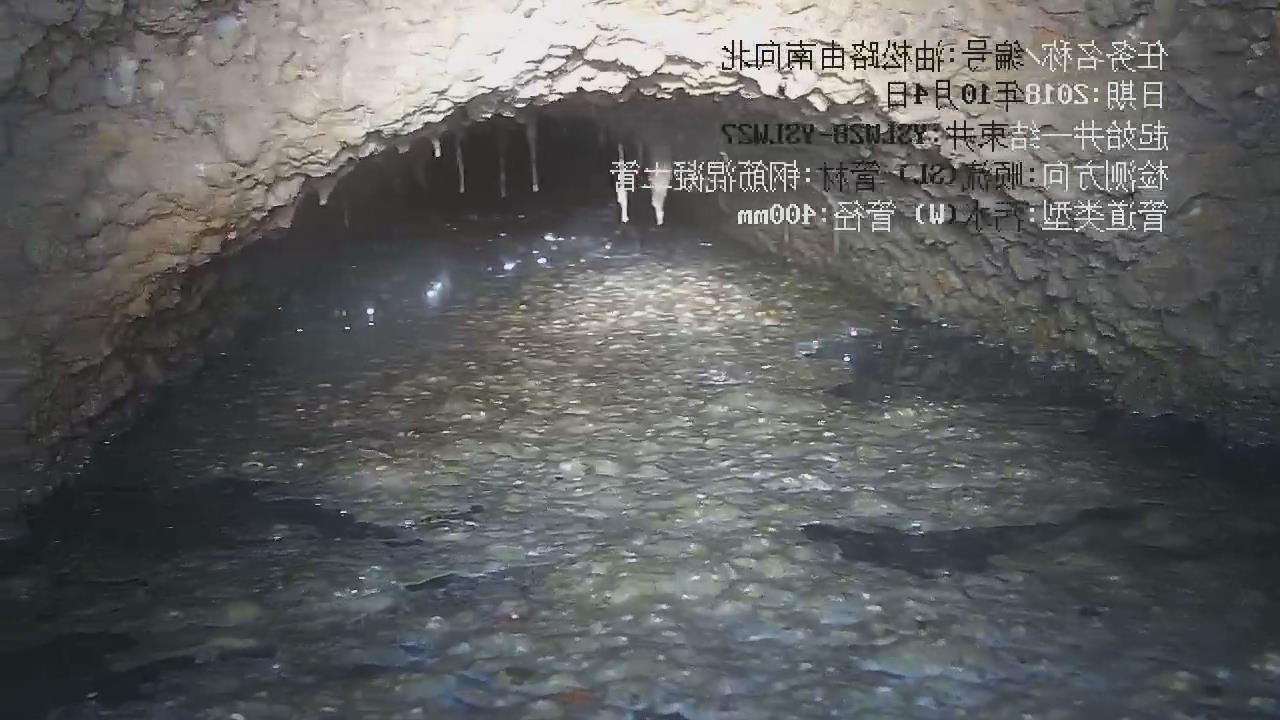FZ: (1, 197, 1280, 719)
JG: (1, 0, 1280, 511)
